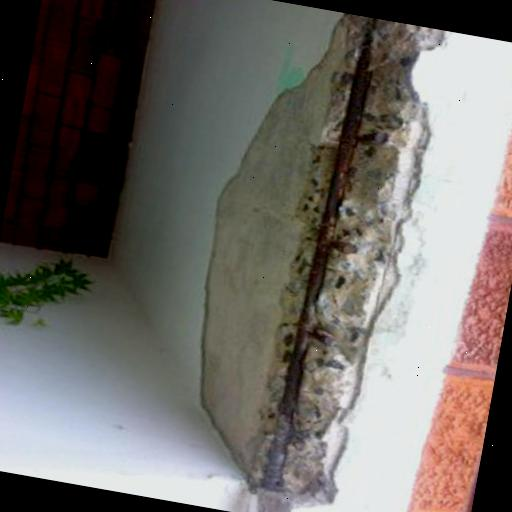spalling: (201, 14, 448, 512)
